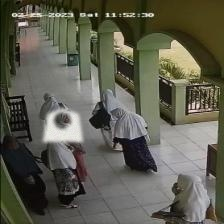Mukena: (43, 108, 82, 141)
